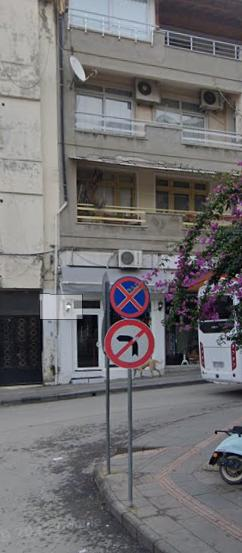leftturnsareforbidden: (106, 322, 155, 369)
